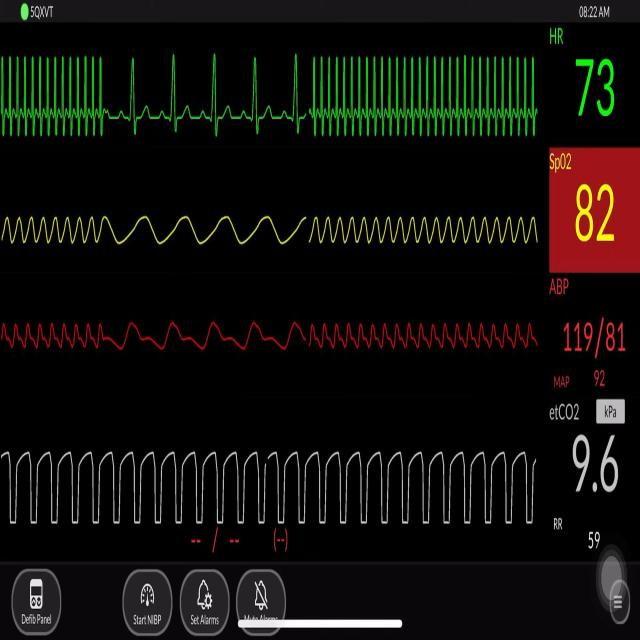danger: (312, 40, 545, 151), (5, 40, 113, 151)
